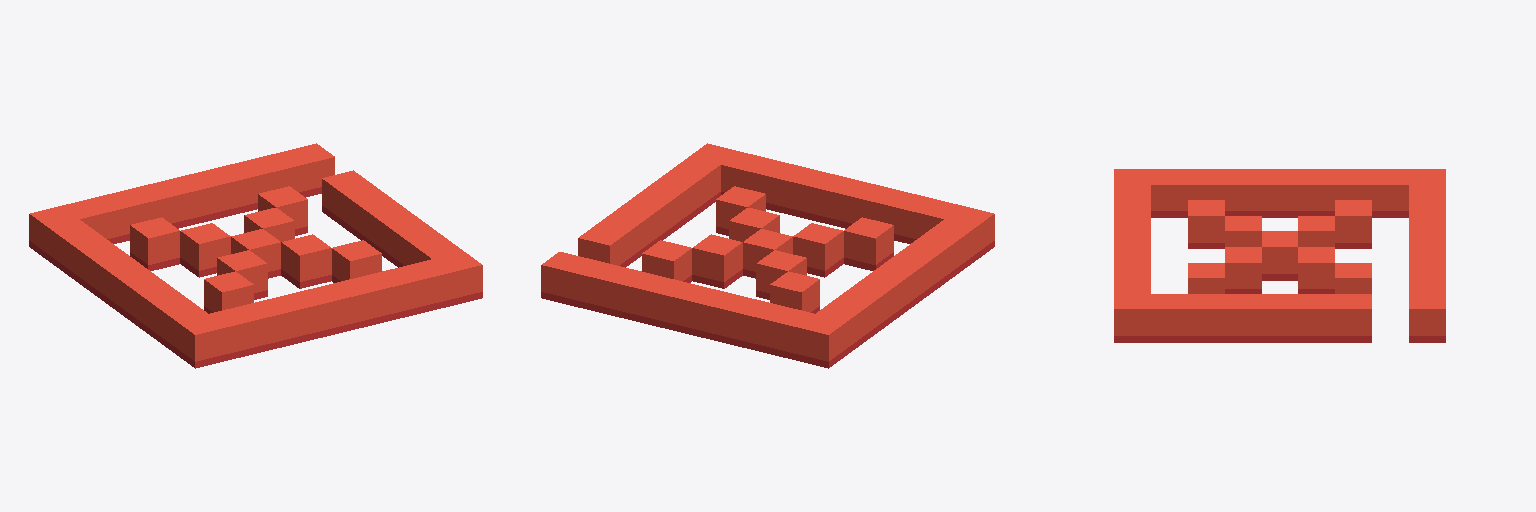
File: map2.obj
The picture shows the model from 3 angles: view 1: azimuth 30°, elevation 25°; view 2: azimuth 150°, elevation 25°; view 3: azimuth 270°, elevation 25°; orthographic projection.
Visible parts, largest first — view 1: mergedBlocks; view 2: mergedBlocks; view 3: mergedBlocks.
Boxes of the visible parts, x1=… form: mergedBlocks: x1=29, y1=143, x2=482, y2=368; mergedBlocks: x1=541, y1=143, x2=994, y2=368; mergedBlocks: x1=1114, y1=169, x2=1445, y2=342.
Bounding box in the file's own units: 9 × 1 × 9.